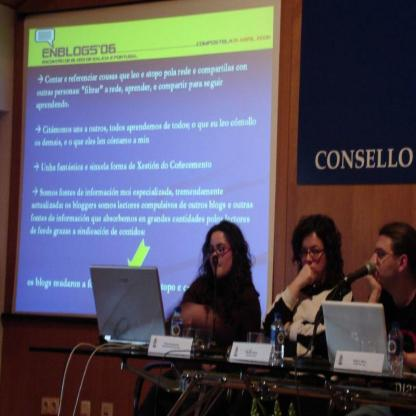board: (81, 265, 172, 358), (324, 303, 389, 371), (271, 314, 285, 365), (390, 320, 402, 360), (172, 308, 182, 335)
